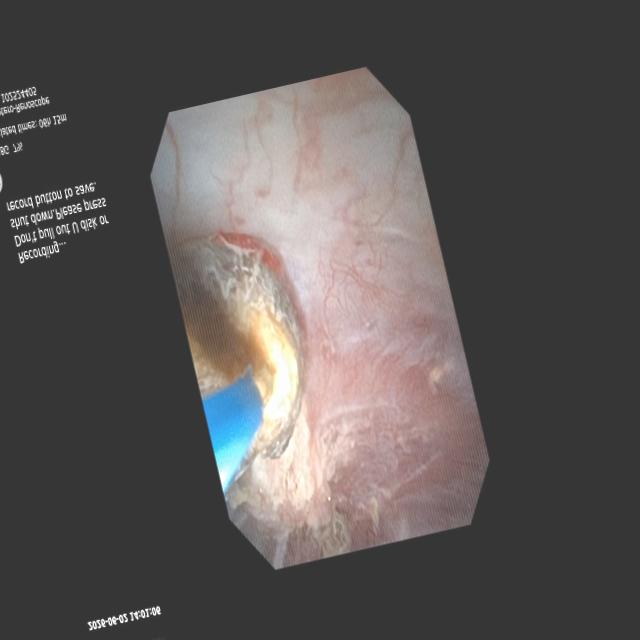laser-fibre: (255, 364, 273, 407)
stone-new: (173, 236, 303, 499)
